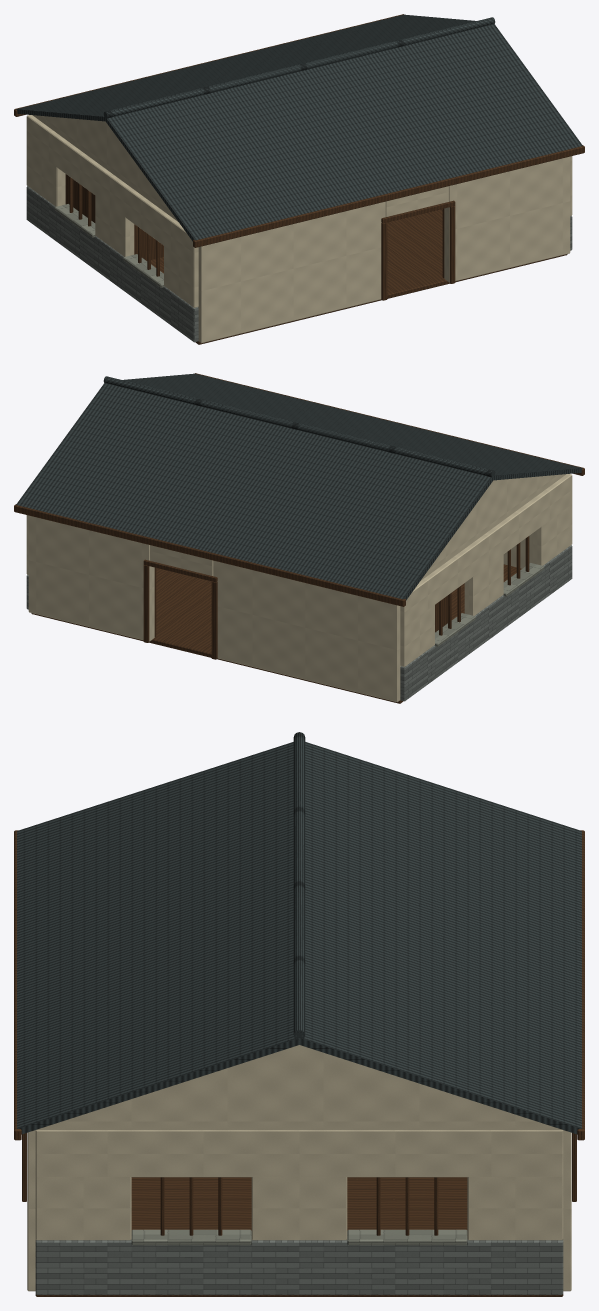
File: mission-building-game.glb
3 renders of one model, top to bottom at view 1: azimuth 30°, elevation 25°; view 2: azimuth 150°, elevation 25°; view 3: azimuth 270°, elevation 25°, orthographic. The views are drawn at different scales.
Visible parts, largest first — view 1: Mission_TileRoof_S, Mission_DoorWallSegment, Mission_DoorWallSegment.001, Mission_TileRoof_N, Mission_SideUpperWall, Mission_SideLowerWall, Mission_Floor, Mission_Gable, Mission_TileRoof_EaveFascia, Mission_TileRoof_Ridge, Mission_SideWindowPier.002, Mission_SideWindowPier.001 (+10 smaller); view 2: Mission_TileRoof_N, Mission_DoorWallSegment.002, Mission_DoorWallSegment.003, Mission_TileRoof_S, Mission_SideUpperWall, Mission_SideLowerWall, Mission_Floor, Mission_Gable, Mission_TileRoof_EaveFascia.001, Mission_TileRoof_Ridge, Mission_SideWindowPier, Mission_SideWindowPier.001 (+9 smaller); view 3: Mission_TileRoof_N, Mission_TileRoof_S, Mission_SideLowerWall.001, Mission_SideUpperWall.001, Mission_Gable.001, Mission_Floor, Mission_SideWindowPier.003, Mission_SideWindowPier.005, Mission_SideWindowPier.004, Mission_TileRoof_Ridge, Mission_WindowSill.002, Mission_WindowSill.003 (+4 smaller).
Part boxes in pixels (x1,y1,x2,y2): Mission_TileRoof_S: [105, 24, 582, 241]; Mission_DoorWallSegment: [198, 201, 385, 343]; Mission_DoorWallSegment.001: [444, 156, 570, 282]; Mission_TileRoof_N: [16, 14, 475, 121]; Mission_SideUpperWall: [26, 115, 198, 267]; Mission_SideLowerWall: [26, 186, 198, 342]; Mission_Floor: [151, 209, 567, 344]; Mission_Gable: [32, 115, 178, 221]; Mission_TileRoof_EaveFascia: [193, 145, 584, 247]; Mission_TileRoof_Ridge: [103, 17, 495, 118]; Mission_SideWindowPier.002: [26, 145, 65, 206]; Mission_SideWindowPier.001: [95, 196, 134, 256]; Mission_TileRoof_N: [16, 383, 493, 600]; Mission_DoorWallSegment.002: [213, 560, 400, 702]; Mission_DoorWallSegment.003: [28, 515, 154, 641]; Mission_TileRoof_S: [123, 373, 582, 480]; Mission_SideUpperWall: [400, 474, 572, 626]; Mission_SideLowerWall: [400, 545, 572, 701]; Mission_Floor: [31, 564, 521, 703]; Mission_Gable: [420, 474, 566, 580]; Mission_TileRoof_EaveFascia.001: [14, 504, 405, 606]; Mission_TileRoof_Ridge: [103, 376, 495, 477]; Mission_SideWindowPier: [533, 504, 572, 565]; Mission_SideWindowPier.001: [464, 555, 503, 615]; Mission_TileRoof_N: [299, 742, 581, 1134]; Mission_TileRoof_S: [17, 742, 299, 1134]; Mission_SideLowerWall.001: [35, 1239, 563, 1294]; Mission_SideUpperWall.001: [35, 1130, 563, 1177]; Mission_Gable.001: [36, 1045, 562, 1130]; Mission_Floor: [35, 1177, 563, 1296]; Mission_SideWindowPier.003: [35, 1176, 131, 1240]; Mission_SideWindowPier.005: [467, 1176, 563, 1240]; Mission_SideWindowPier.004: [251, 1177, 347, 1240]; Mission_TileRoof_Ridge: [293, 732, 305, 1040]; Mission_WindowSill.002: [131, 1229, 251, 1245]; Mission_WindowSill.003: [347, 1229, 467, 1245].
Bounding box in the file's own units: 14.8 × 6.31 × 11.9.
Materials: 5 (5 with a texture image).
